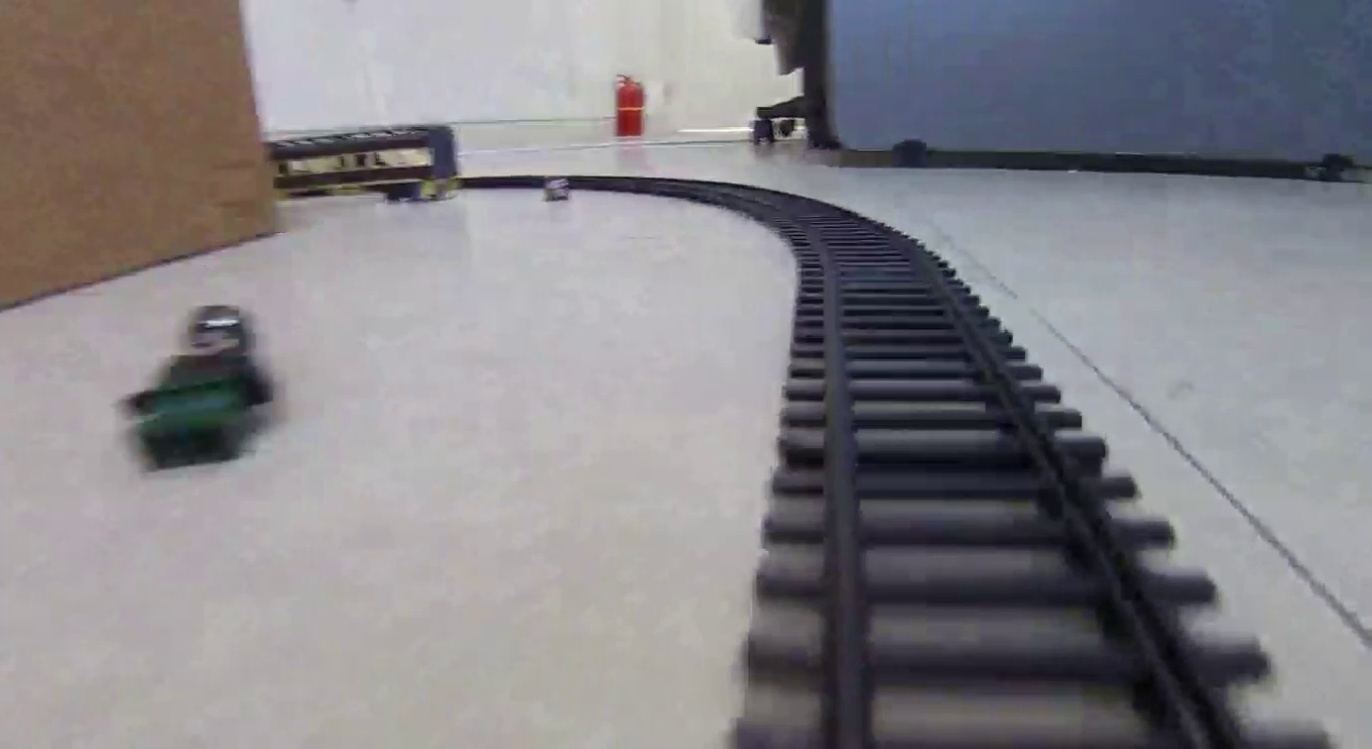people: (114, 303, 280, 471)
